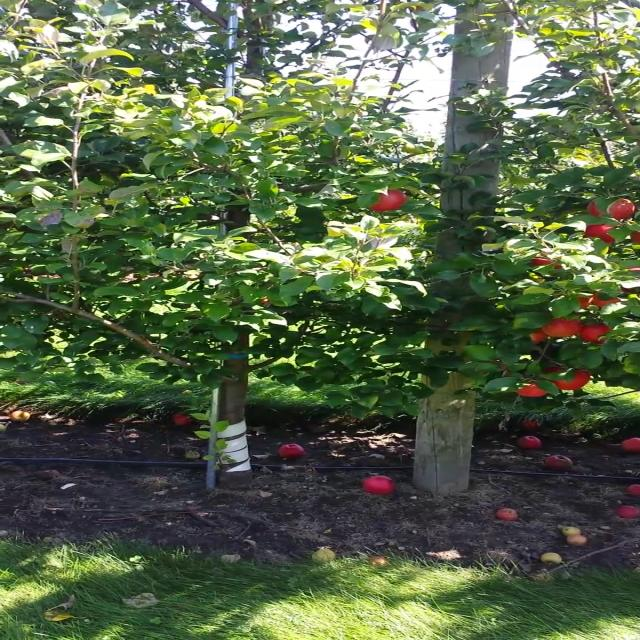apple: (366, 190, 407, 212), (590, 199, 636, 217), (554, 370, 590, 390), (542, 318, 580, 336), (585, 224, 614, 246), (582, 324, 612, 342), (528, 257, 565, 269), (516, 383, 546, 397), (592, 294, 620, 306), (574, 296, 593, 310), (546, 364, 570, 374), (530, 331, 548, 343), (622, 267, 639, 279), (629, 228, 639, 246)
